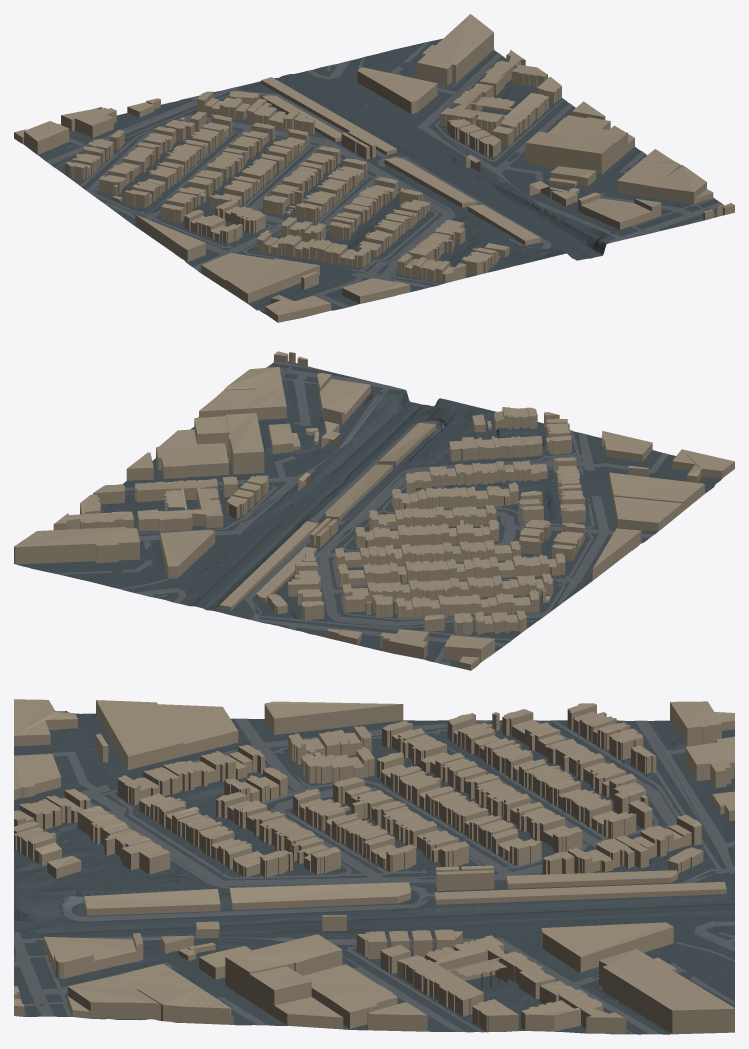
Rendered from epsg26910-1440-10874.lod0.glb.
3 views of the same model, one above another, from view 1: azimuth 30°, elevation 25°; view 2: azimuth 150°, elevation 25°; view 3: azimuth 270°, elevation 25° (orthographic). The views are drawn at different scales.
Parts seen in each view (by area): view 1: epsg26910-1440-10874-lod0; view 2: epsg26910-1440-10874-lod0; view 3: epsg26910-1440-10874-lod0.
Part boxes in pixels (x1,y1,x2,y2): epsg26910-1440-10874-lod0: [14, 14, 734, 322]; epsg26910-1440-10874-lod0: [14, 351, 734, 670]; epsg26910-1440-10874-lod0: [14, 699, 734, 1034].
Size of the model in its own units: 384 by 23.78 by 384.
